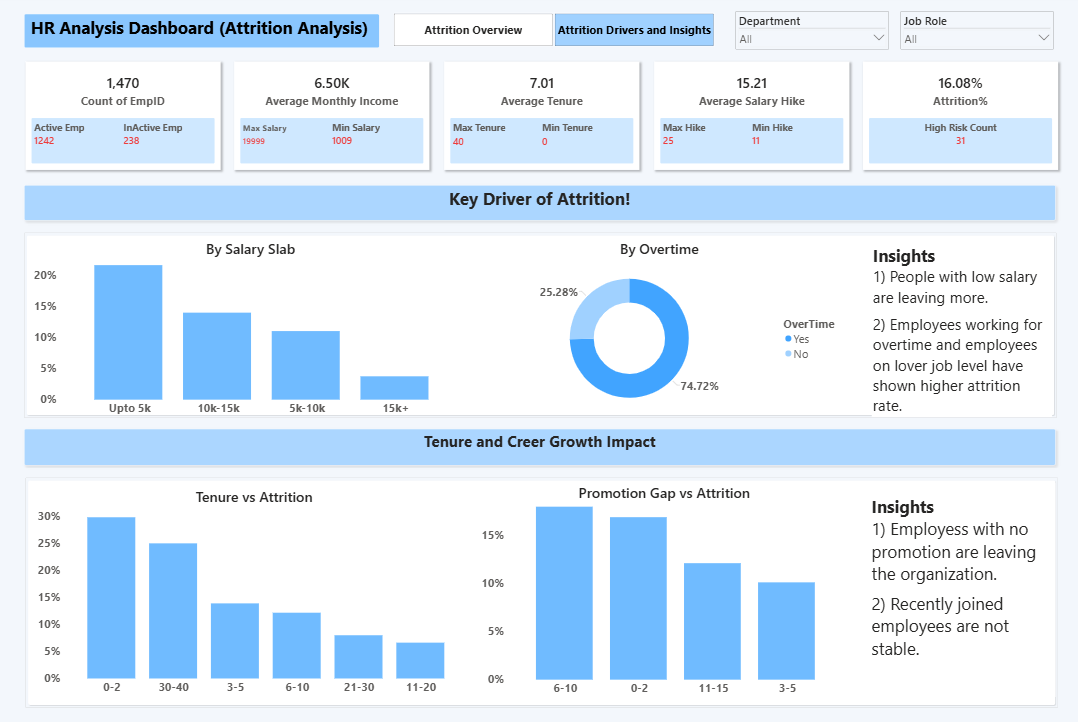

What the dashboard file says about the page in this screenshot:
{"tool":"powerbi","page":{"name":"Attrition Drivers and Insights","canvas":[5200,3500],"ordinal":1},"visuals":[{"type":"shape","box":[154.6,2300.5,4909.7,1092.9],"z":0},{"type":"cardVisual","fields":{"Data":["Count(HR_Analytics.EmpID)"]},"box":[154.6,321,928,514.1],"z":1000},{"type":"shape","box":[148.6,1135.4,4909.7,879.9],"z":2000},{"type":"textbox","box":[148.6,909.5,4904.1,166.4],"z":3000},{"type":"textbox","box":[148.6,2068.6,4904.1,172.4],"z":4000},{"type":"cardVisual","fields":{"Data":["All_Measures.Average Monthly Income"]},"box":[1145.1,321,928,514],"z":5000},{"type":"textbox","box":[148.6,95,1688.2,160.5],"z":6000},{"type":"donutChart","title":"By Overtime","fields":{"Y":["All_Measures.Attrition%"],"Category":["HR_Analytics.OverTime"]},"box":[2288.6,1165.1,1759.5,844.1],"z":7000},{"type":"pageNavigator","box":[1902.2,89.2,1530.1,162.5],"z":8000},{"type":"columnChart","title":"Tenure vs Attrition","fields":{"Category":["HR_Analytics.YearsAtCompany Group"],"Y":["All_Measures.Attrition%"]},"box":[208.1,2342.1,2067.8,999],"z":9000},{"type":"slicer","fields":{"Values":["HR_Analytics.Department"]},"box":[3530.9,83.2,728.6,180],"z":10000},{"type":"columnChart","title":"Promotion Gap  vs Attrition","fields":{"Y":["All_Measures.Attrition%"],"Category":["HR_Analytics.YearsSinceLastPromotion Group"]},"box":[2318.3,2324.2,1747.6,1022.4],"z":11000},{"type":"slicer","fields":{"Values":["HR_Analytics.JobRole"]},"box":[4315.6,83.2,728,180],"z":12000},{"type":"columnChart","title":"By Salary Slab","fields":{"Category":["HR_Analytics.SalarySlab"],"Y":["All_Measures.Attrition%"]},"box":[190.2,1165.1,2068.6,850],"z":13000},{"type":"cardVisual","fields":{"Data":["Avg(HR_Analytics.YearsAtCompany)"]},"box":[2147.4,321,928,514],"z":14000},{"type":"cardVisual","fields":{"Data":["Avg(HR_Analytics.PercentSalaryHike)"]},"box":[3143.8,321,928,514.1],"z":15000},{"type":"textbox","box":[4180,1165.1,857.5,846.3],"z":16000},{"type":"textbox","box":[4172.6,2327.1,879.8,1016.5],"z":17000},{"type":"cardVisual","fields":{"Data":["All_Measures.Attrition%"]},"box":[4140.2,321,928,514.1],"z":18000}]}

Visuals, with their boxes in screenshot pixels (x1, y1, x2, y2), scaled from the page's 5200x3500 canvas onto the 1078x722 screenshot:
shape: (left=32, top=475, right=1050, bottom=700)
cardVisual - Count(HR_Analytics.EmpID): (left=32, top=66, right=224, bottom=172)
shape: (left=31, top=234, right=1049, bottom=416)
textbox: (left=31, top=188, right=1047, bottom=222)
textbox: (left=31, top=427, right=1047, bottom=462)
cardVisual - All_Measures.Average Monthly Income: (left=237, top=66, right=430, bottom=172)
textbox: (left=31, top=20, right=381, bottom=53)
"By Overtime" donutChart: (left=474, top=240, right=839, bottom=414)
pageNavigator: (left=394, top=18, right=712, bottom=52)
"Tenure vs Attrition" columnChart: (left=43, top=483, right=472, bottom=689)
slicer - HR_Analytics.Department: (left=732, top=17, right=883, bottom=54)
"Promotion Gap  vs Attrition" columnChart: (left=481, top=479, right=843, bottom=690)
slicer - HR_Analytics.JobRole: (left=895, top=17, right=1046, bottom=54)
"By Salary Slab" columnChart: (left=39, top=240, right=468, bottom=416)
cardVisual - Avg(HR_Analytics.YearsAtCompany): (left=445, top=66, right=638, bottom=172)
cardVisual - Avg(HR_Analytics.PercentSalaryHike): (left=652, top=66, right=844, bottom=172)
textbox: (left=867, top=240, right=1044, bottom=415)
textbox: (left=865, top=480, right=1047, bottom=690)
cardVisual - All_Measures.Attrition%: (left=858, top=66, right=1051, bottom=172)
